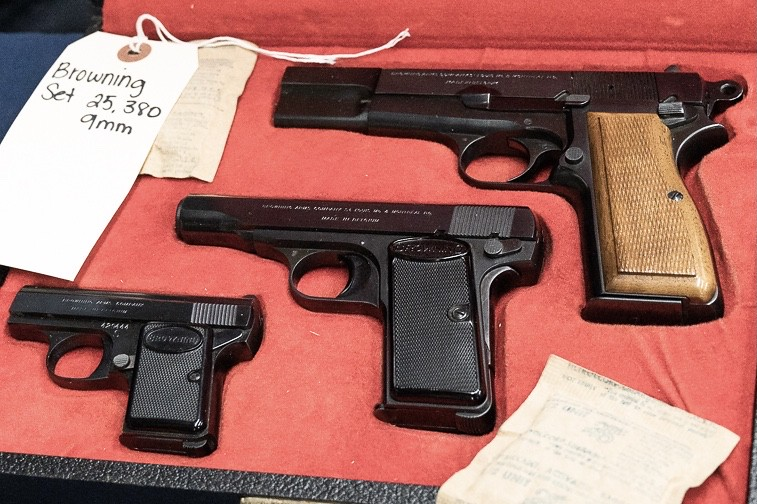gun: (271, 59, 749, 343), (173, 191, 546, 440), (4, 278, 273, 466)
